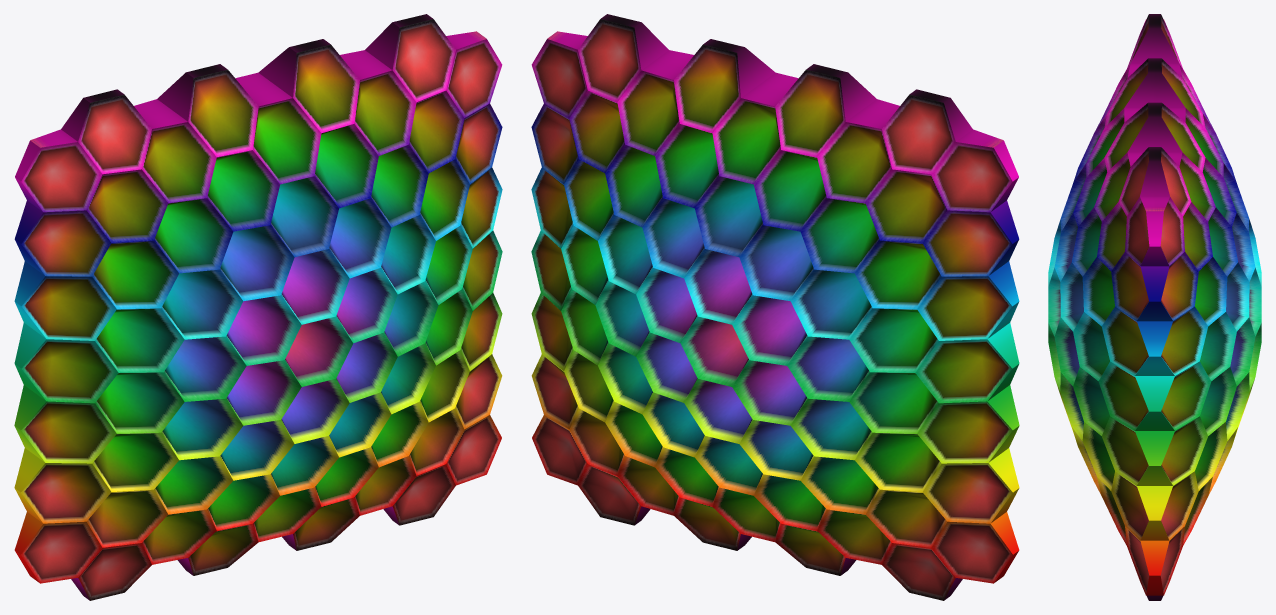
The model's file is Artifact09.FBX.
3 views of the same model, side by side, from view 1: azimuth 30°, elevation 25°; view 2: azimuth 150°, elevation 25°; view 3: azimuth 270°, elevation 25° (orthographic). The views are drawn at different scales.
Parts seen in each view (by area): view 1: Artifact09; view 2: Artifact09; view 3: Artifact09.
Boxes of the visible parts, left/top/right/bottom form: Artifact09: left=14, top=14, right=502, bottom=600; Artifact09: left=531, top=14, right=1019, bottom=600; Artifact09: left=1048, top=14, right=1261, bottom=600.
Size of the model in its own units: 22.75 by 22.49 by 9.9.
